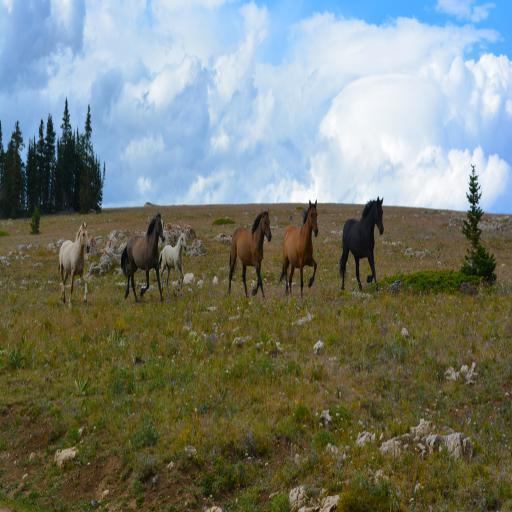horse: (340, 196, 384, 292), (227, 210, 273, 300), (120, 215, 166, 303), (281, 198, 320, 299), (60, 223, 92, 307), (158, 232, 188, 292)
